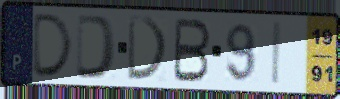9: (223, 22, 261, 84)
B: (171, 16, 213, 84)
D: (73, 13, 119, 82), (126, 14, 171, 83), (30, 12, 76, 79)
I: (270, 20, 284, 88)
